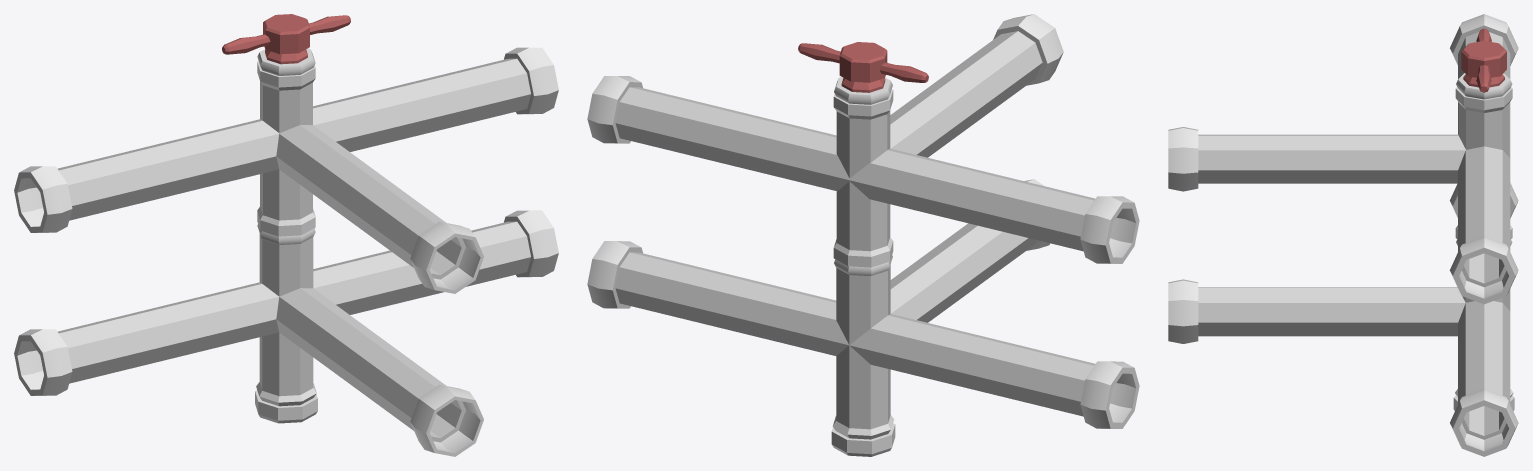
File: Tube_gimmick_S.fbx
3 views of the same model, side by side, from view 1: azimuth 30°, elevation 25°; view 2: azimuth 150°, elevation 25°; view 3: azimuth 270°, elevation 25° (orthographic). The views are drawn at different scales.
Visible parts, largest first — view 1: Tube_gimmick_S; view 2: Tube_gimmick_S; view 3: Tube_gimmick_S.
Part boxes in pixels (left/top/right/bottom): Tube_gimmick_S: left=14, top=14, right=558, bottom=456; Tube_gimmick_S: left=587, top=14, right=1139, bottom=456; Tube_gimmick_S: left=1168, top=14, right=1518, bottom=456.
Size of the model in its own units: 318 by 230 by 201.
